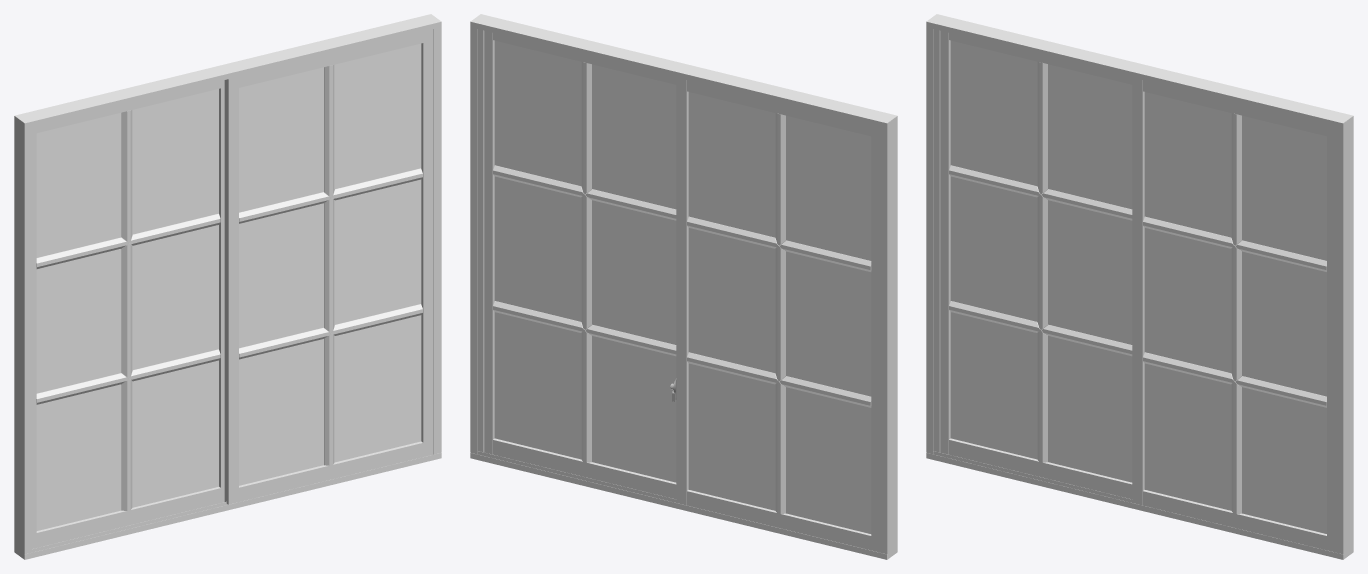
3 views of the same model, side by side, from view 1: azimuth 30°, elevation 25°; view 2: azimuth 150°, elevation 25°; view 3: azimuth 330°, elevation 25° (orthographic).
Parts seen in each view (by area): view 1: Material2_33, Material2_7, Material2_6, Material2_32, Material2_98 (×8), Material2_3, Material2_2, Material2_81 (×4), Material2_4, Material2_1, Material2_37, Material2_12; view 2: Material2_33, Material2_7, Material2_32, Material2_6, Material2_98 (×8), Material2_3, Material2_2, Material2_81 (×4), Material2_4, Material2_1, Material2_11, Material2_31; view 3: Material2_33, Material2_7, Material2_6, Material2_32, Material2_98 (×8), Material2_4, Material2_2, Material2_81 (×4), Material2_3, Material2_1, Material2_12, Material2_37.
Part boxes in pixels (x1=…): Material2_33: x1=36, y1=89, x2=218, y2=530; Material2_7: x1=239, y1=43, x2=421, y2=485; Material2_6: x1=224, y1=29, x2=433, y2=504; Material2_32: x1=31, y1=80, x2=224, y2=548; Material2_98 (×8): x1=36, y1=168, x2=422, y2=404; Material2_3: x1=14, y1=116, x2=31, y2=558; Material2_2: x1=14, y1=14, x2=441, y2=128; Material2_81 (×4): x1=121, y1=65, x2=334, y2=510; Material2_4: x1=433, y1=27, x2=441, y2=454; Material2_1: x1=14, y1=452, x2=441, y2=559; Material2_37: x1=121, y1=242, x2=132, y2=378; Material2_12: x1=324, y1=196, x2=334, y2=332; Material2_33: x1=688, y1=92, x2=871, y2=533; Material2_7: x1=494, y1=40, x2=676, y2=482; Material2_32: x1=676, y1=77, x2=879, y2=552; Material2_6: x1=482, y1=30, x2=676, y2=498; Material2_98 (×8): x1=493, y1=165, x2=871, y2=407; Material2_3: x1=879, y1=116, x2=897, y2=558; Material2_2: x1=470, y1=14, x2=897, y2=128; Material2_81 (×4): x1=581, y1=62, x2=785, y2=513; Material2_4: x1=470, y1=27, x2=484, y2=454; Material2_1: x1=470, y1=451, x2=897, y2=559; Material2_11: x1=581, y1=193, x2=591, y2=329; Material2_31: x1=775, y1=245, x2=785, y2=381; Material2_33: x1=950, y1=40, x2=1132, y2=482; Material2_7: x1=1144, y1=92, x2=1326, y2=533; Material2_6: x1=1132, y1=77, x2=1335, y2=552; Material2_32: x1=938, y1=30, x2=1132, y2=498; Material2_98 (×8): x1=949, y1=165, x2=1326, y2=407; Material2_4: x1=1335, y1=116, x2=1353, y2=558; Material2_2: x1=926, y1=14, x2=1353, y2=128; Material2_81 (×4): x1=1037, y1=62, x2=1241, y2=513; Material2_3: x1=926, y1=27, x2=940, y2=454; Material2_1: x1=926, y1=451, x2=1353, y2=559; Material2_12: x1=1231, y1=245, x2=1241, y2=381; Material2_37: x1=1037, y1=193, x2=1047, y2=329.
Bounding box in the file's own units: 0.7687 × 0.7692 × 0.0336.
3 materials, 3 textured.
